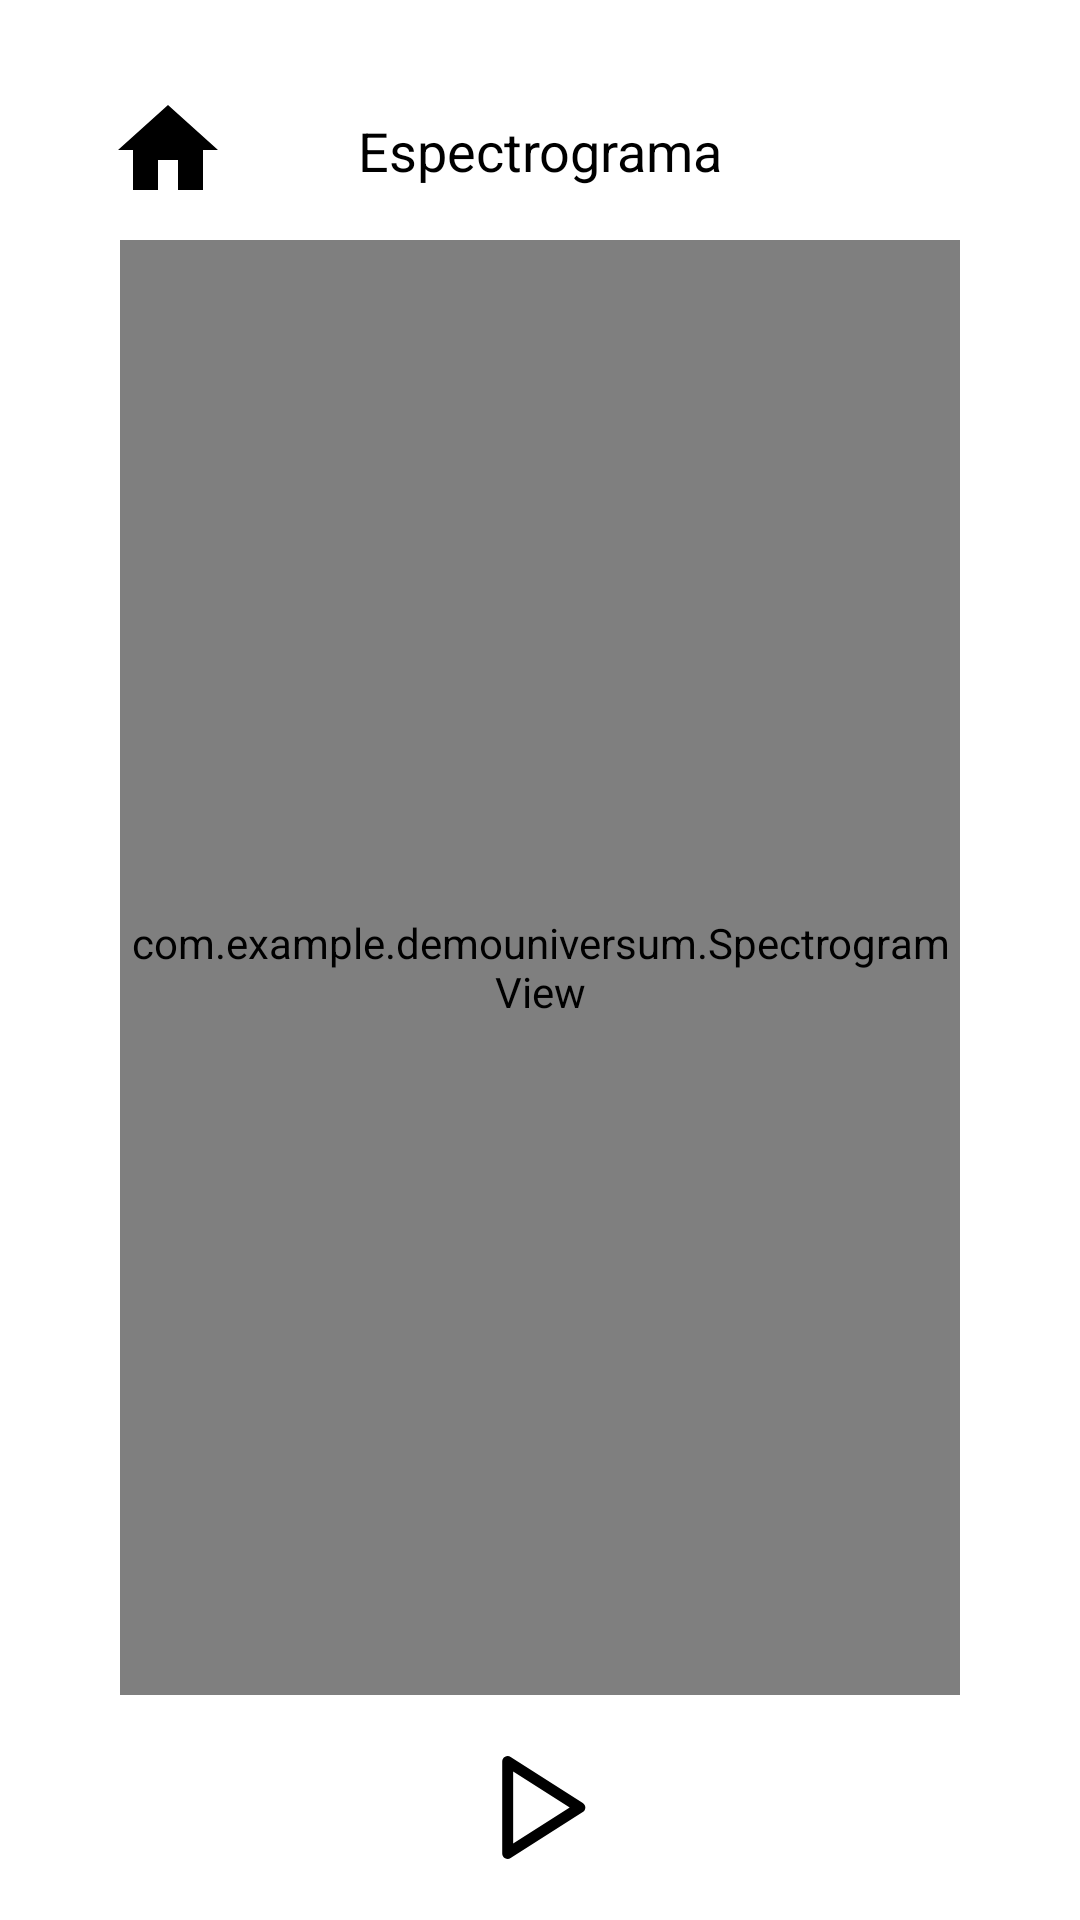

Point at icon controls on the screen. Image size 1080px×1920px, points as (x,y).
Reproducir o pausar: (544,1807)
Volver al inicio: (168,147)
